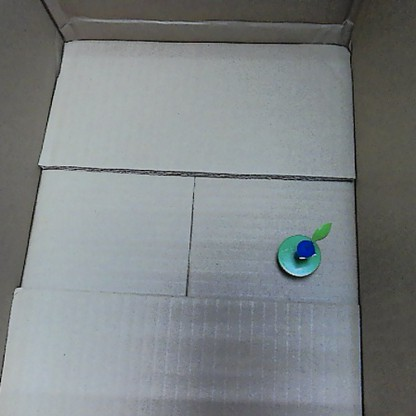leafairy: (274, 215, 331, 280)
